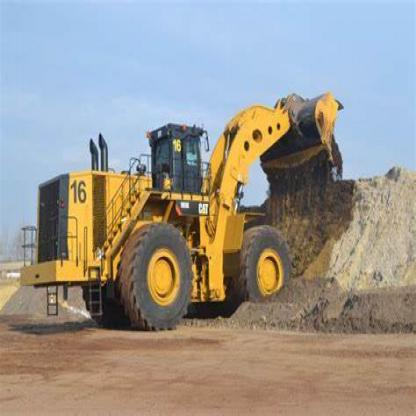bull_dozer/loader/grader: (16, 82, 346, 343)
